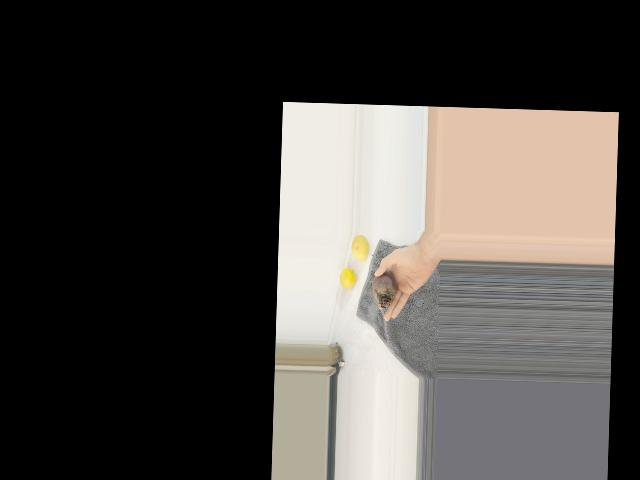beet: (369, 254, 398, 308)
